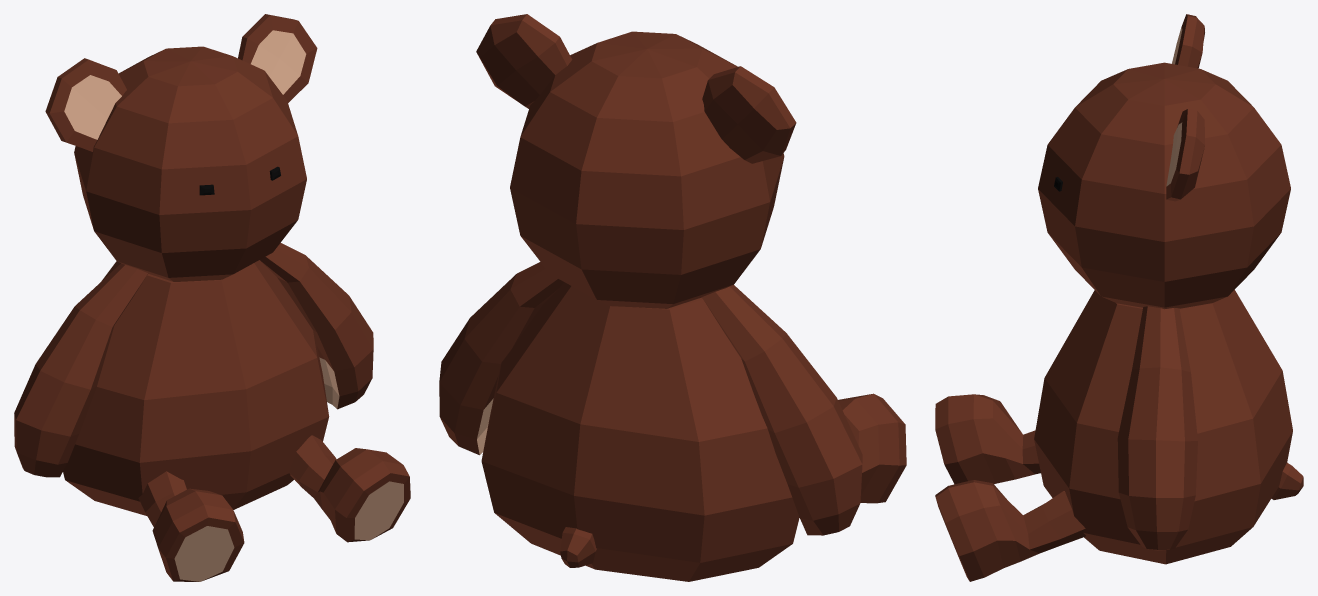
Rendered from teddy.fbx.
The picture shows the model from 3 angles, left to right: view 1: azimuth 30°, elevation 25°; view 2: azimuth 150°, elevation 25°; view 3: azimuth 270°, elevation 25°; orthographic projection. The views are drawn at different scales.
Visible parts, largest first — view 1: Teddy; view 2: Teddy; view 3: Teddy.
Boxes of the visible parts, left/top/right/bottom form: Teddy: left=14, top=14, right=410, bottom=581; Teddy: left=439, top=14, right=906, bottom=581; Teddy: left=935, top=14, right=1303, bottom=581.
Bounding box in the file's own units: 107 × 128 × 90.83.
